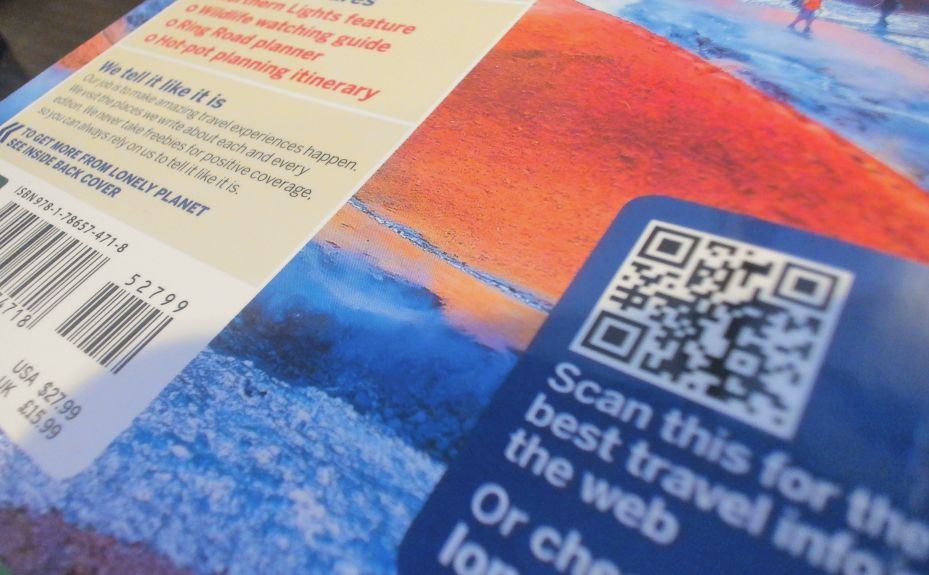QR_CODE: (560, 206, 865, 453)
